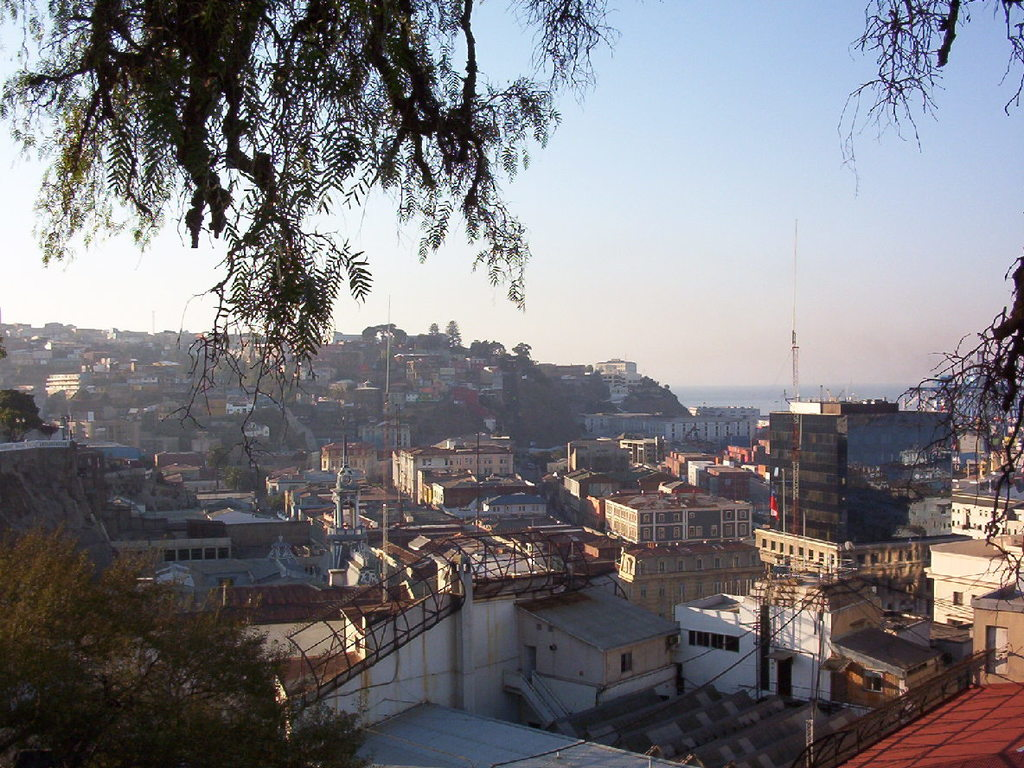Tree: (0, 0, 665, 462), (0, 515, 391, 766)
